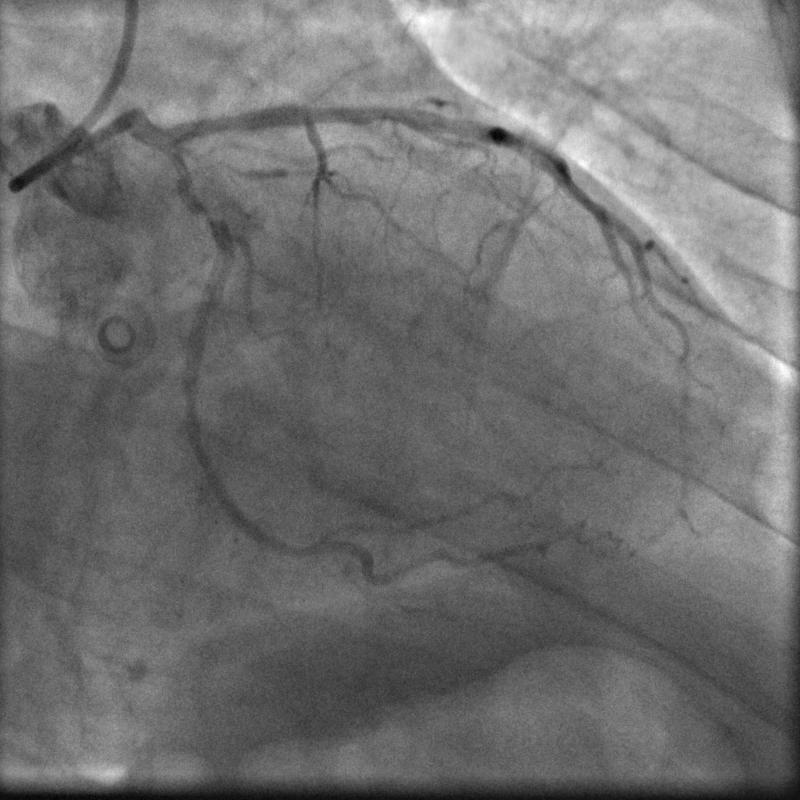Stenosis: (198, 205, 220, 221)
